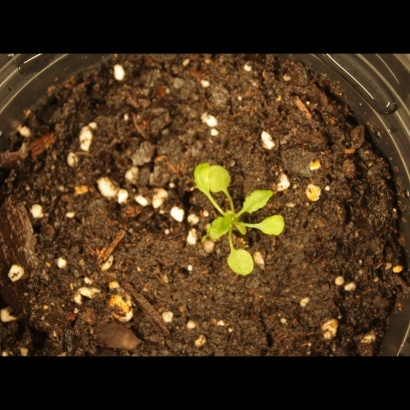leaf: (221, 246, 259, 281), (242, 186, 280, 214), (192, 162, 215, 200), (203, 165, 234, 191), (259, 213, 288, 238), (206, 215, 232, 242), (231, 216, 254, 239)
